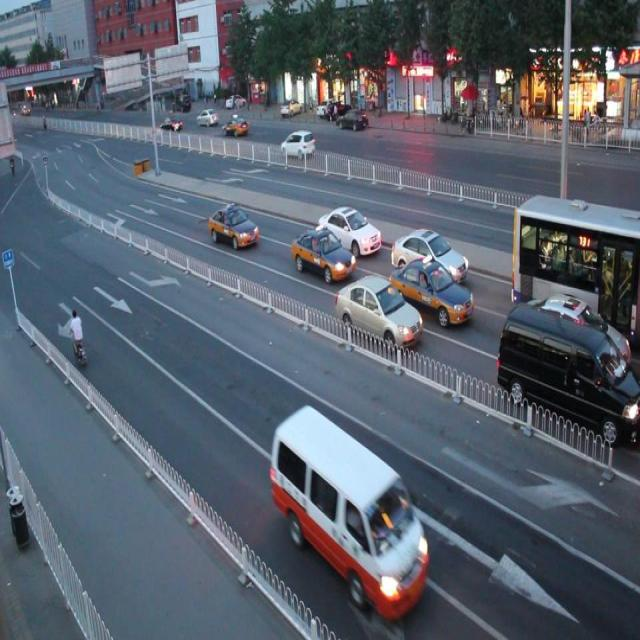car: (514, 293, 628, 390), (334, 272, 422, 349), (388, 260, 474, 330), (390, 228, 467, 283), (291, 225, 354, 282), (316, 204, 381, 254), (208, 200, 260, 252), (279, 130, 315, 158), (223, 113, 249, 137)
truck: (272, 406, 429, 618), (496, 300, 640, 446)
van: (510, 193, 640, 350)
